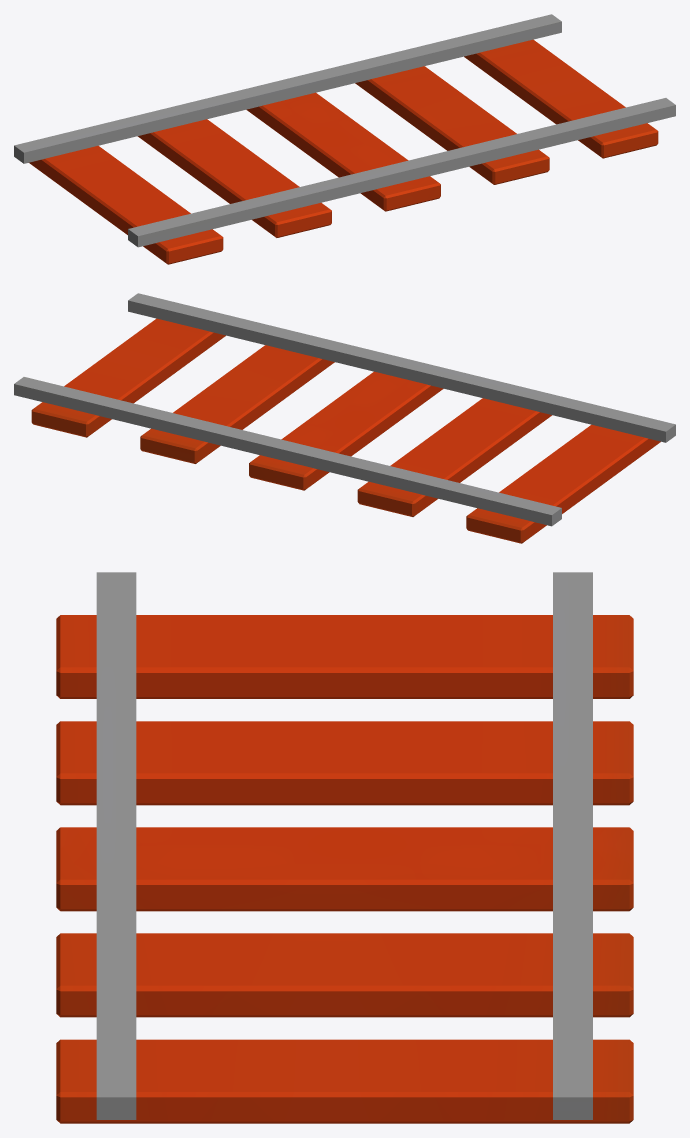
The model's file is StraitTrack.fbx.
3 renders of one model, top to bottom at view 1: azimuth 30°, elevation 25°; view 2: azimuth 150°, elevation 25°; view 3: azimuth 270°, elevation 25°, orthographic. The views are drawn at different scales.
Parts seen in each view (by area): view 1: StraitTrack, Cube.004; view 2: StraitTrack, Cube.004; view 3: StraitTrack, Cube.004.
Boxes of the visible parts, box(x1,y1,x2,y2) form: StraitTrack: box(29, 39, 658, 264); Cube.004: box(14, 14, 675, 247); StraitTrack: box(31, 318, 660, 543); Cube.004: box(14, 293, 675, 526); StraitTrack: box(56, 615, 633, 1123); Cube.004: box(96, 572, 592, 1119).
Size of the model in its own units: 4.95 by 0.2369 by 2.3.
